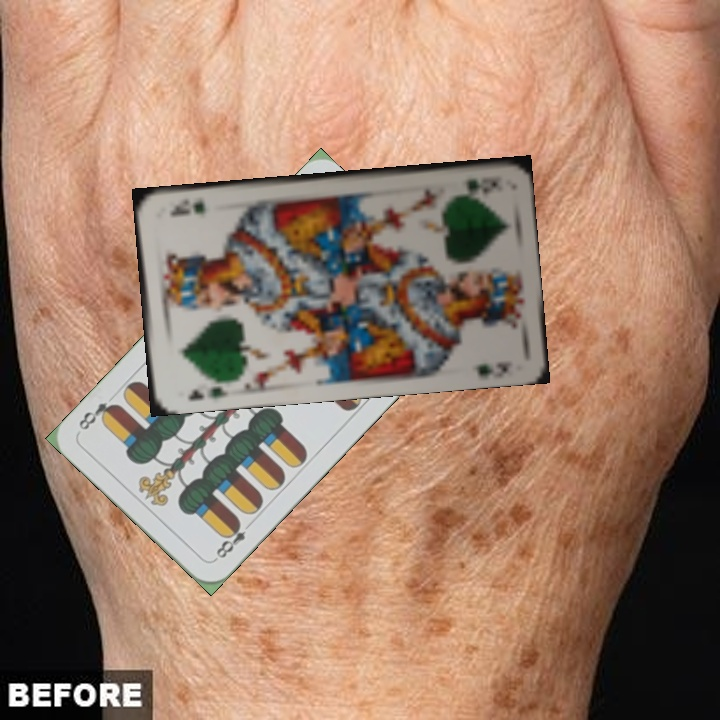E8: (210, 516, 256, 564)
GK: (184, 383, 231, 404), (461, 175, 501, 194)
